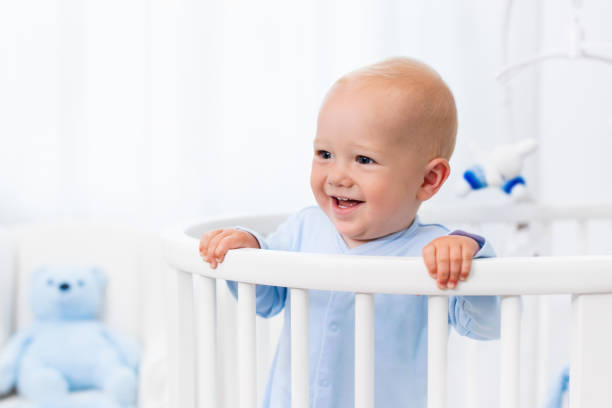baby: (200, 58, 492, 287)
crib: (163, 204, 611, 407)
